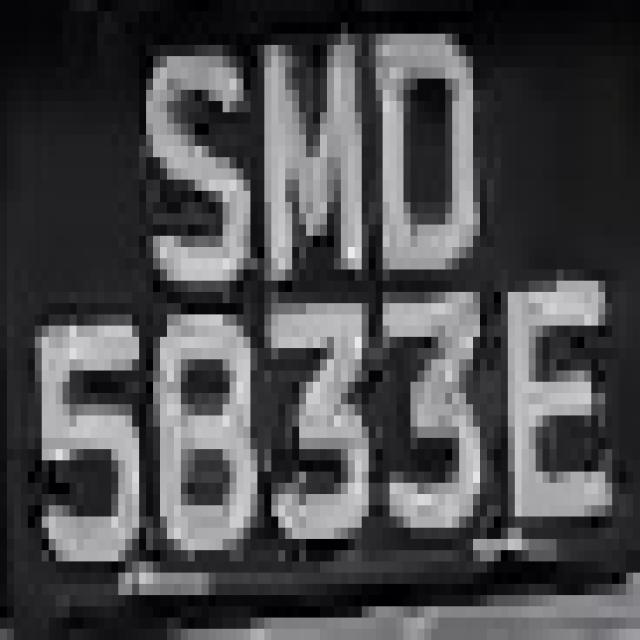3: (355, 258, 494, 573), (257, 280, 369, 572)
5: (21, 292, 139, 573)
D: (362, 11, 480, 292)
E: (480, 247, 619, 539)
M: (244, 11, 376, 281)
S: (125, 0, 271, 314)
